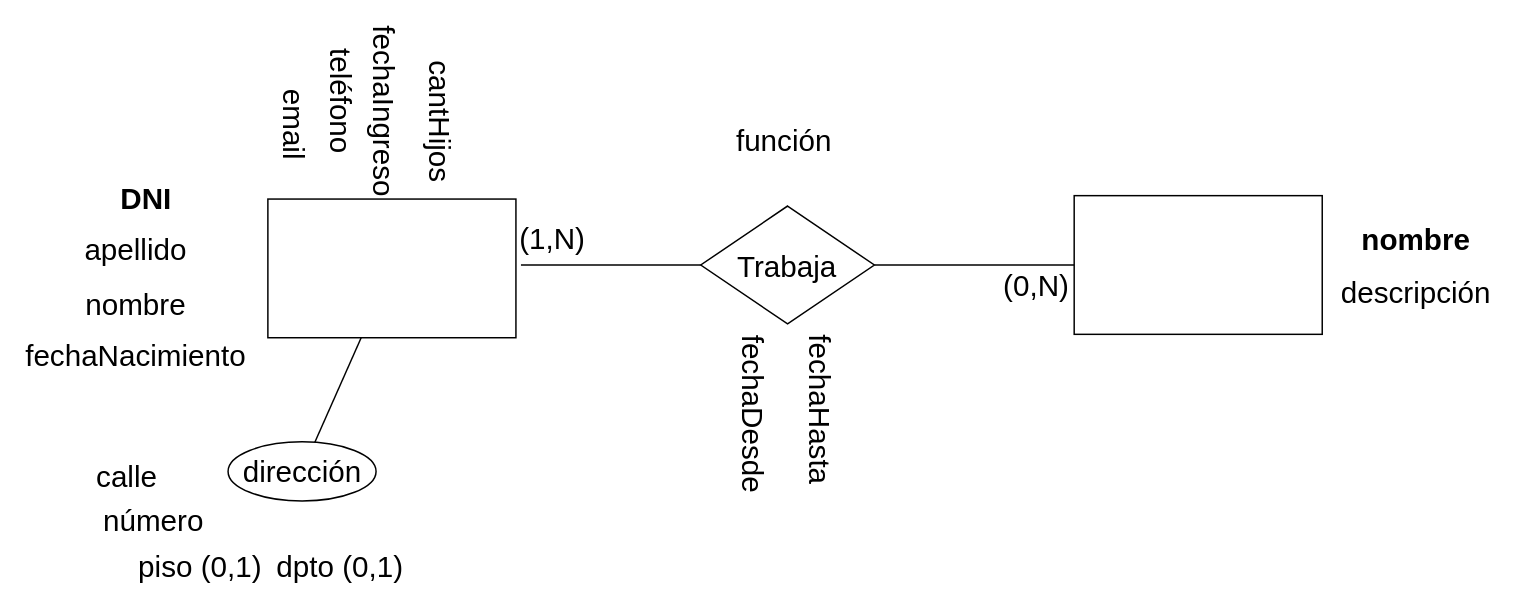
This 1517x613 diagram has some shape labels left out. The shapes that lost their labels are listed below. From the top down, each one's centre as x and y in pixels, then its label:
point 391,268: Empleados
point 1197,264: Áreas
